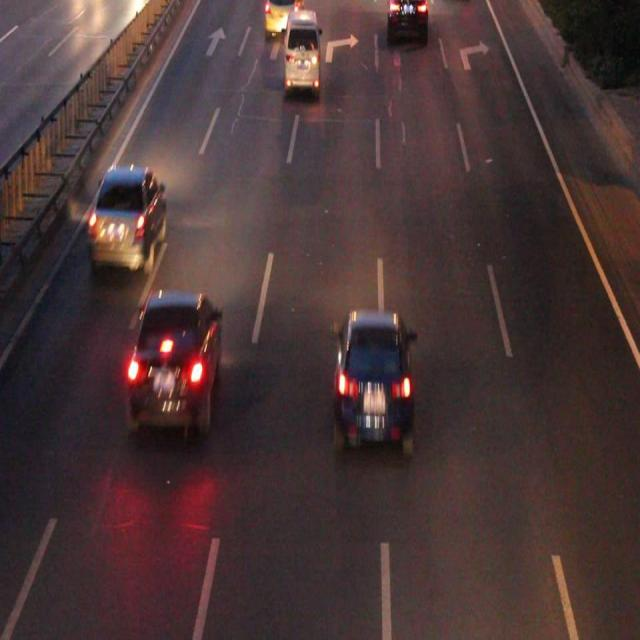car: (130, 294, 220, 425), (336, 312, 411, 448), (90, 168, 165, 264), (388, 1, 426, 40), (265, 2, 300, 34)
truck: (286, 13, 319, 91)
